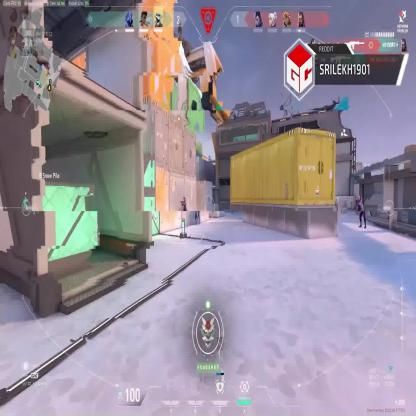enemy: (356, 195, 366, 228), (180, 195, 187, 225)
enemy_head: (358, 195, 361, 204), (183, 196, 186, 202)
